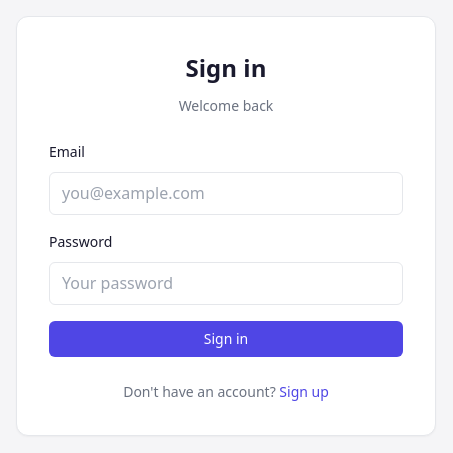
Scenario: SignIn › shows loading state when submitting
Type "a@b.com" into the field labelled "Email" at (226, 194), box [49, 172, 403, 215]
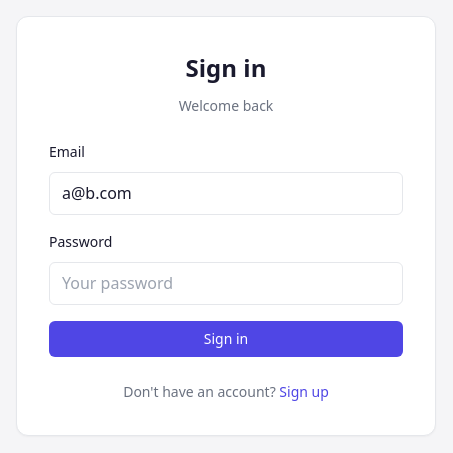
Type "password" into the password field labelled "Password" at (226, 284), box [49, 262, 403, 305]
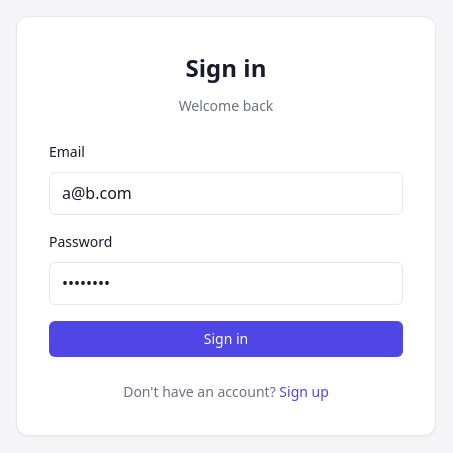
Click the button "Sign in" at (226, 339), box [49, 321, 403, 357]
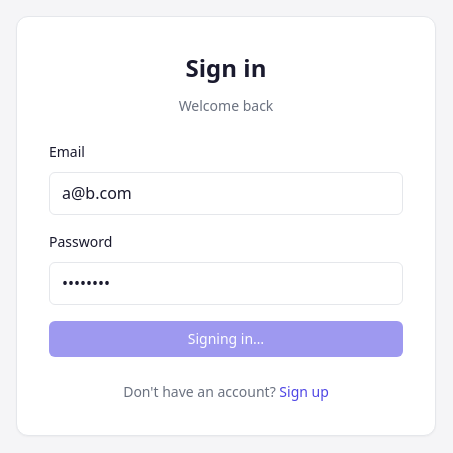
expect the button "Signing in…" is shown: met, box [49, 321, 403, 357]
